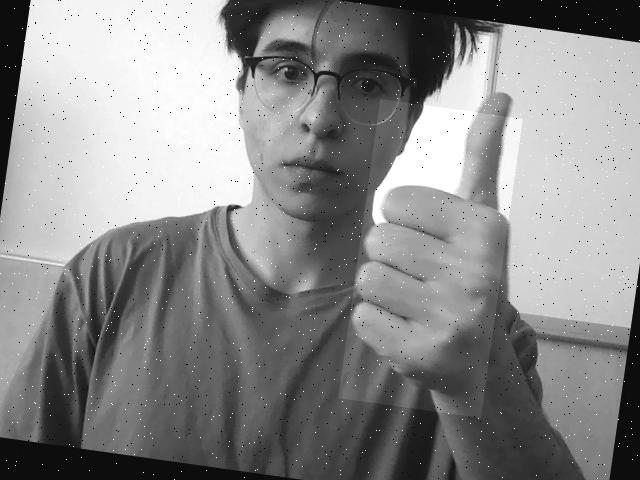good: (338, 99, 523, 418)
